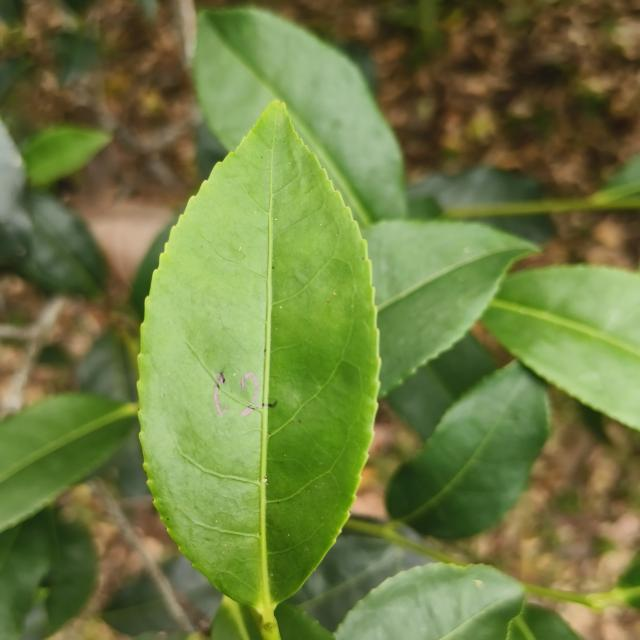Leaf: (138, 102, 380, 626), (194, 8, 406, 226), (362, 219, 537, 397), (386, 361, 548, 539), (482, 265, 640, 428), (0, 393, 138, 531), (335, 563, 524, 640), (16, 189, 107, 297), (407, 166, 542, 218), (45, 511, 97, 635), (22, 125, 111, 186), (479, 214, 554, 243)
